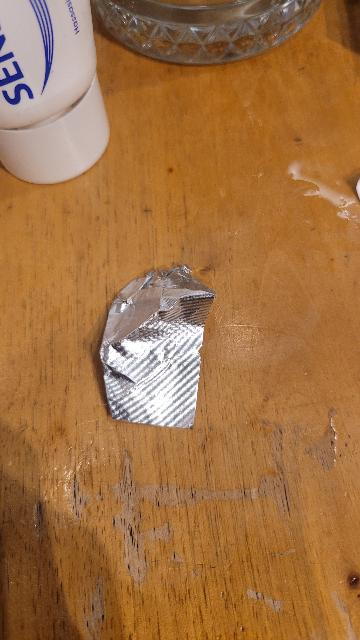Plastik: (0, 4, 113, 185), (97, 267, 216, 427)
